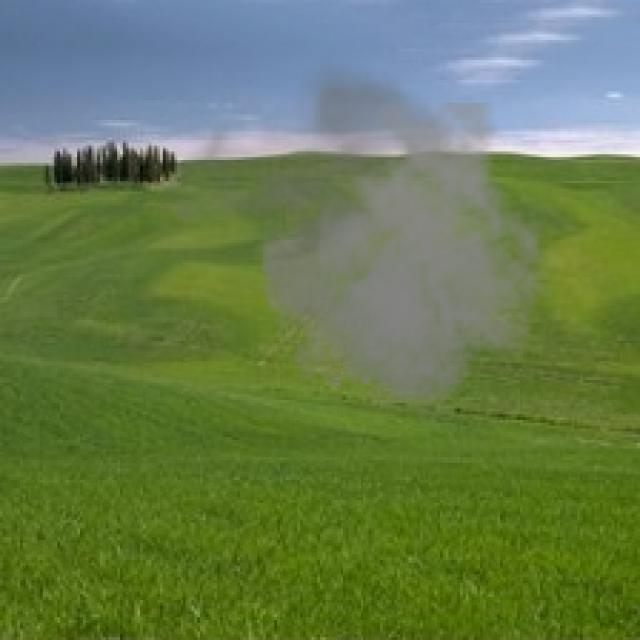smoke: (157, 57, 554, 429)
